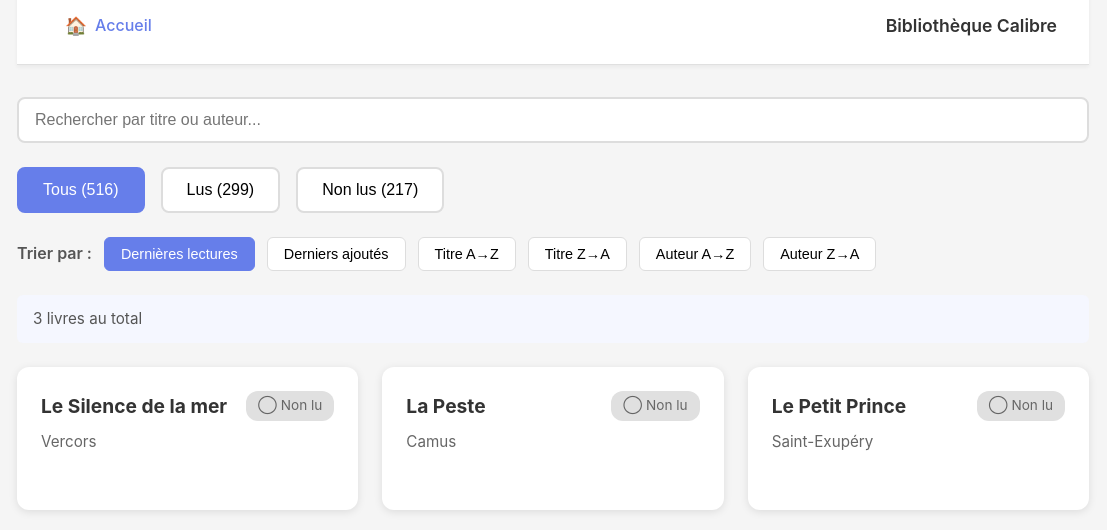
Test: CalibreLibrary › Sorting and Filtering › should filter books by search text (title)
The image size is (1107, 530).
Note: Search for "silence"
Type "silence" into the field with test id "search-input". click: (553, 120)
box: [17,97,1089,143]
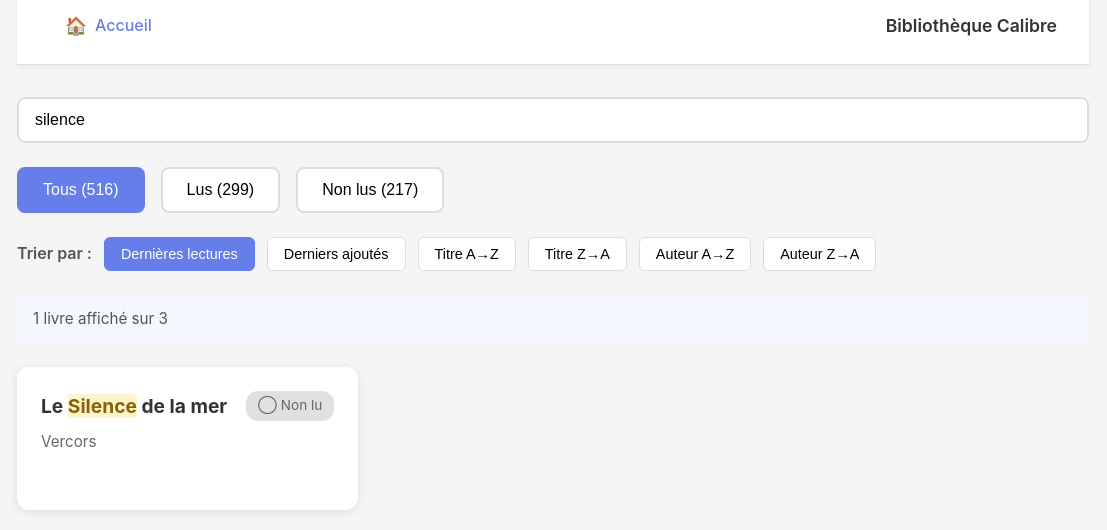
Expected: the heading "Le Silence de la mer" is shown, [41,392,246,422]
Expected: the text "1 livre affiché sur 3" is shown, [33,309,168,328]
